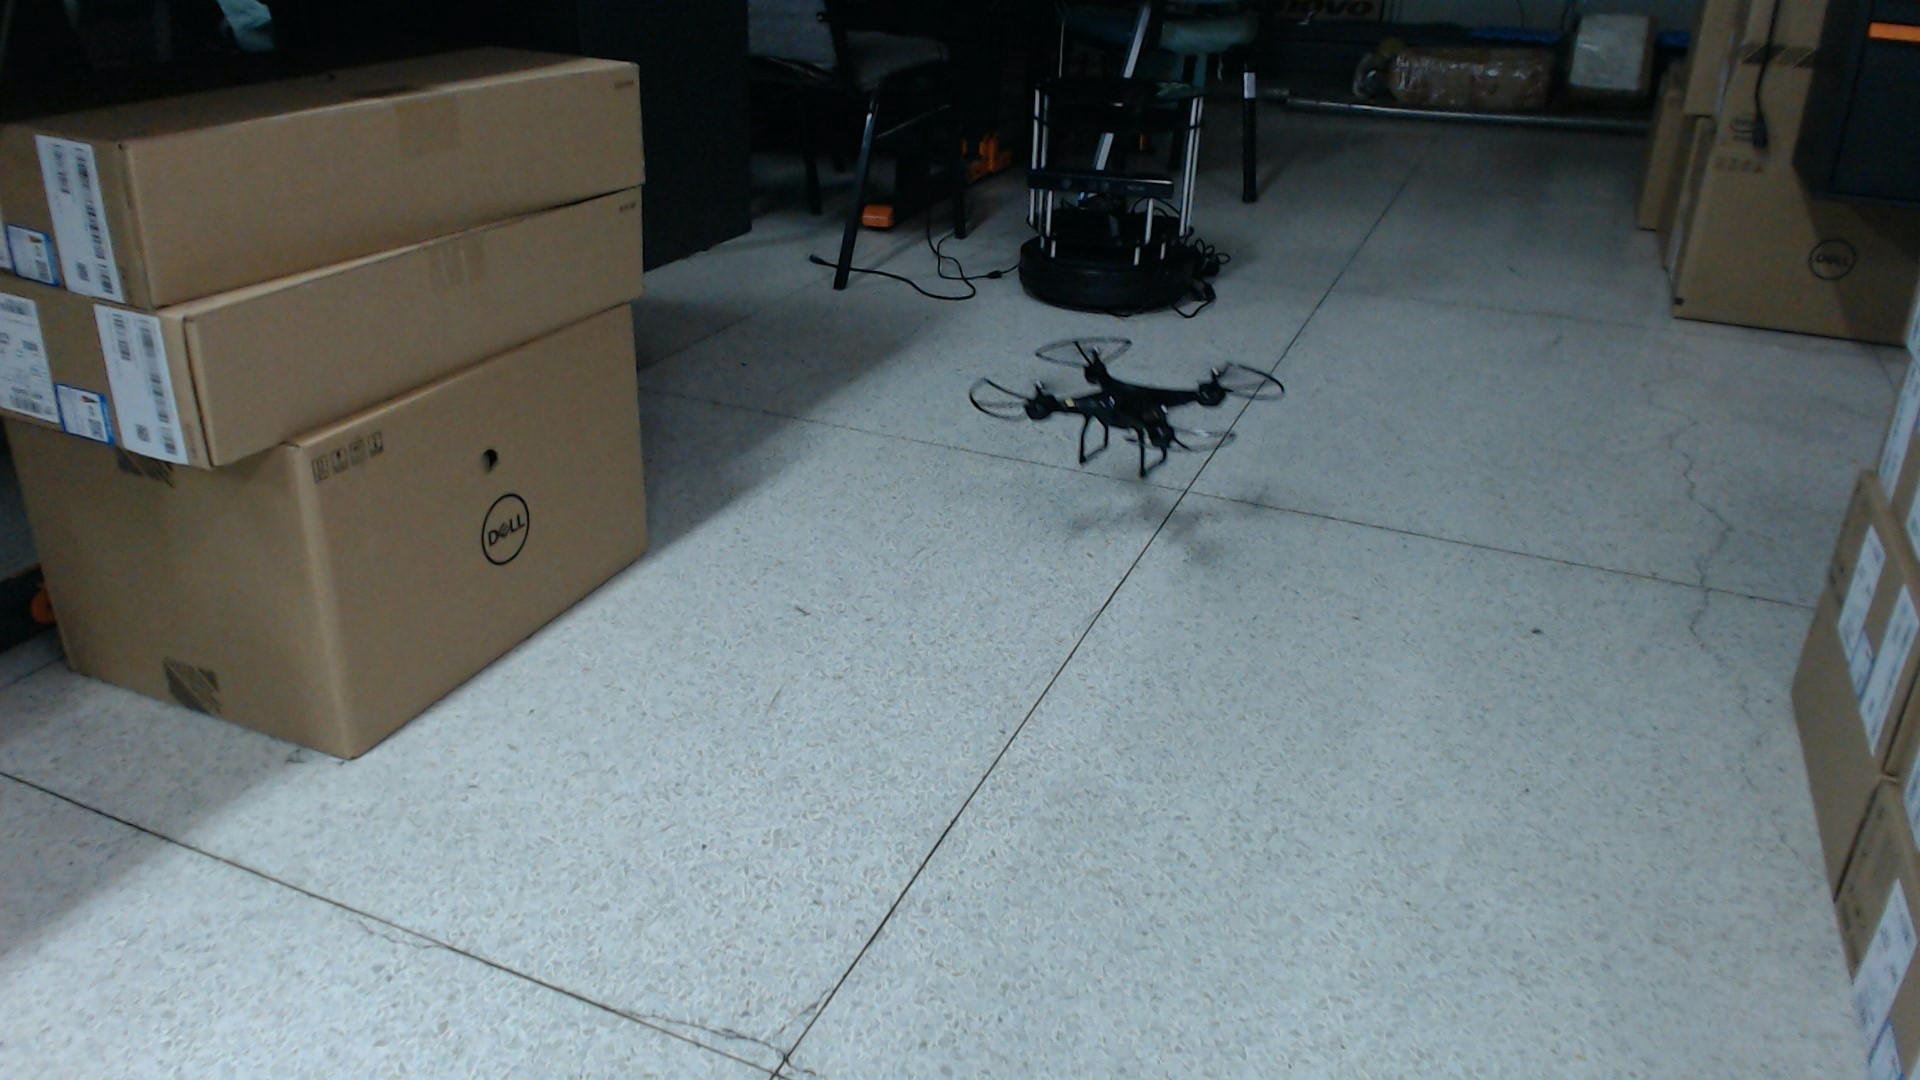drone_shadow: (1068, 484, 1274, 582)
test_drone: (967, 331, 1296, 485)
